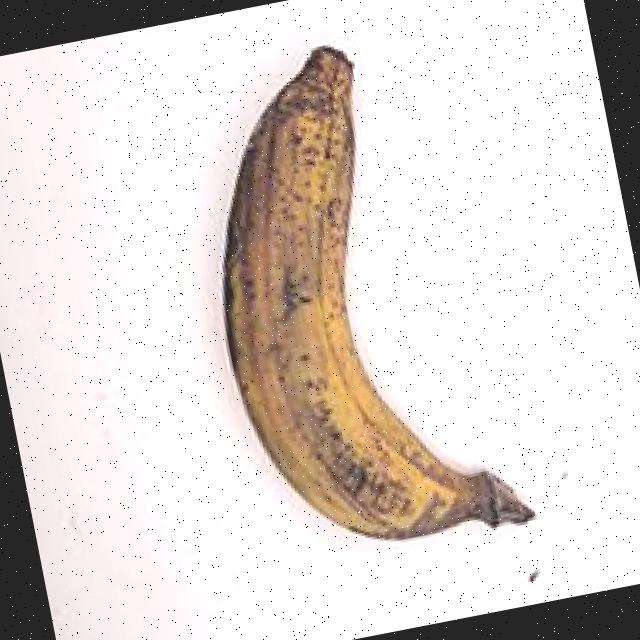Overripe: (118, 4, 560, 598)
